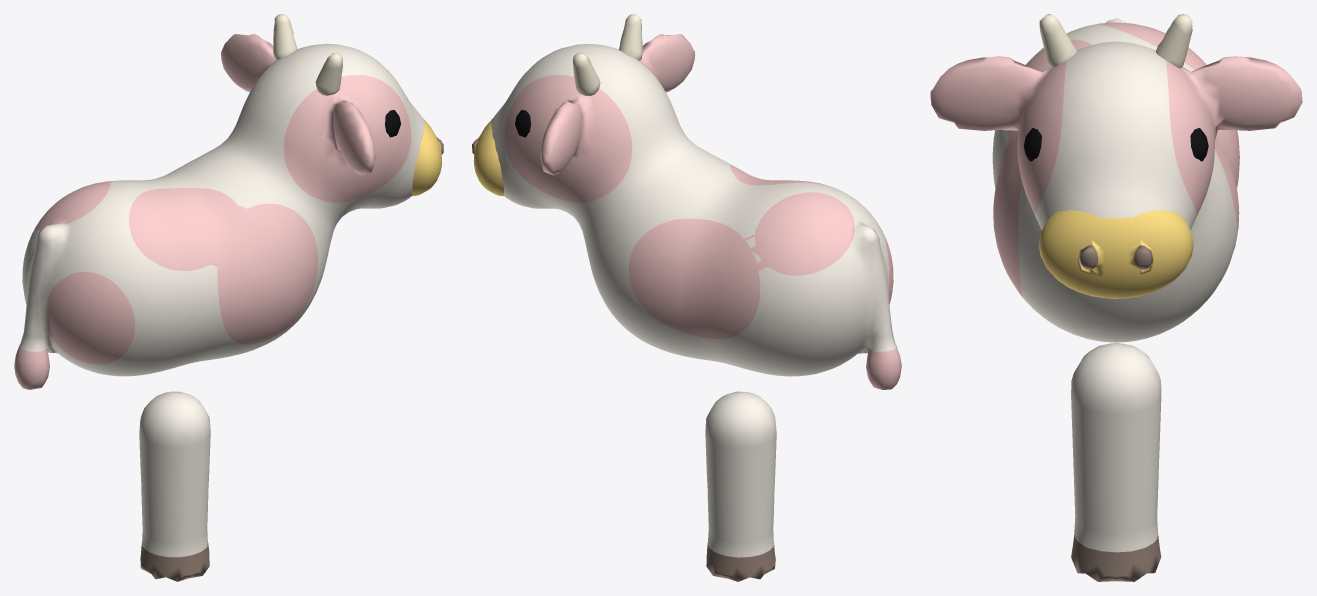
File: cow_baby.glb
3 views of the same model, side by side, from view 1: azimuth 30°, elevation 25°; view 2: azimuth 150°, elevation 25°; view 3: azimuth 270°, elevation 25° (orthographic). The views are drawn at different scales.
Parts seen in each view (by area): view 1: body, leg, horn, beak; view 2: body, leg, horn, beak; view 3: body, leg, beak, horn, eye.
Part boxes in pixels (x1,y1,x2,y2): body: (14, 34, 424, 389); leg: (139, 391, 210, 581); horn: (273, 14, 342, 95); beak: (412, 118, 443, 196); body: (491, 34, 901, 389); leg: (705, 391, 776, 581); horn: (573, 14, 642, 95); beak: (472, 118, 503, 196); body: (930, 18, 1302, 342); leg: (1071, 342, 1161, 581); beak: (1038, 209, 1193, 298); horn: (1039, 14, 1192, 68); eye: (1023, 128, 1208, 161).
Bounding box in the file's own units: 2.27 × 2.62 × 1.39.
